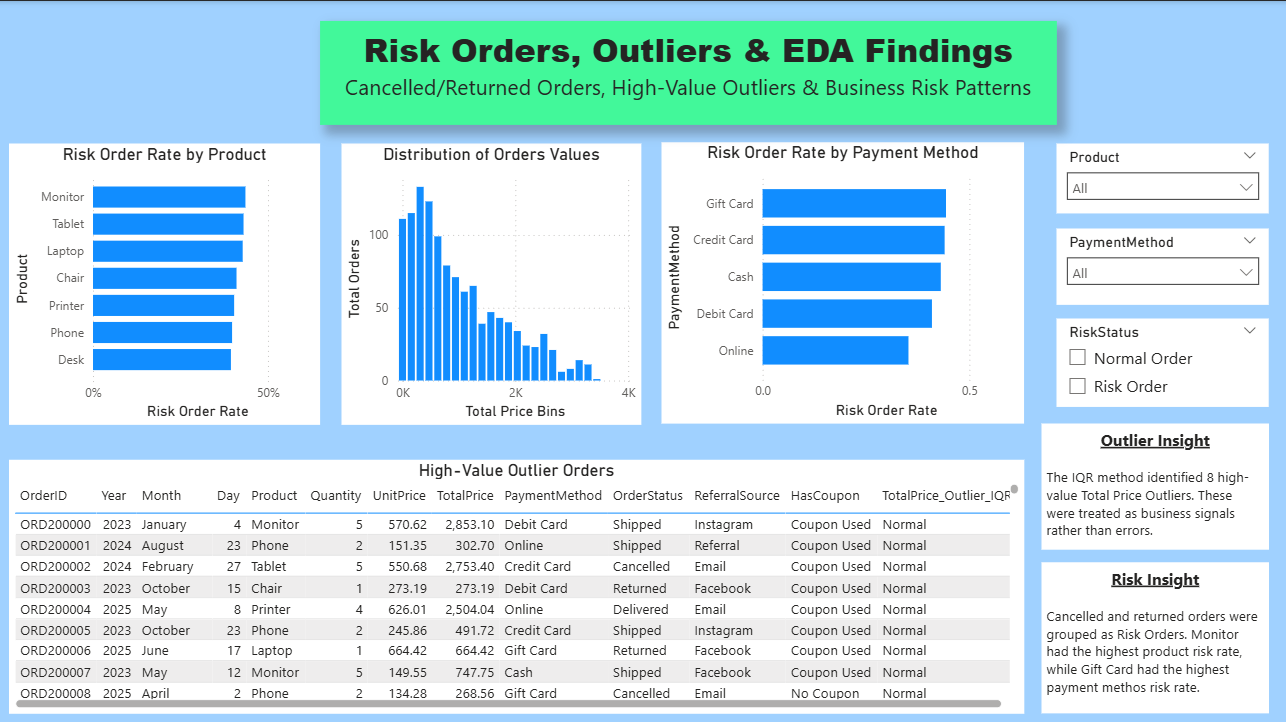

The page's visual inventory and layout, read from the dashboard file:
{"tool":"powerbi","page":{"name":"Risk, Outliers & EDA Findings","canvas":[1280,720],"ordinal":3},"visuals":[{"type":"clusteredBarChart","fields":{"Category":["Orders.Product"],"Y":["Orders.Risk Order Rate"]},"box":[10,141.8,309.7,279.9],"z":0},{"type":"clusteredBarChart","title":"Risk Order Rate by Payment Method","fields":{"Category":["Orders.PaymentMethod"],"Y":["Orders.Risk Order Rate"]},"box":[659.3,140.6,360.7,279.9],"z":1000},{"type":"tableEx","title":"High-Value Outlier Orders","fields":{"Values":["Orders.OrderID","Orders.Date.Variation.Date Hierarchy.Year","Orders.Date.Variation.Date Hierarchy.Month","Orders.Date.Variation.Date Hierarchy.Day","Orders.Product","Orders.Quantity","Orders.UnitPrice","Orders.TotalPrice","Orders.PaymentMethod","Orders.OrderStatus","Orders.ReferralSource","Orders.HasCoupon"]},"box":[10,456.5,1010.1,252.5],"z":2000},{"type":"actionButton","box":[0,0,100,40],"z":3000},{"type":"columnChart","title":"Distribution of Orders Values","fields":{"Category":["Orders.Total Price Bins"],"Y":["Orders.Total Orders"]},"box":[340.8,141.8,298.6,279.9],"z":4000},{"type":"slicer","fields":{"Values":["Orders.Product"]},"box":[1052.4,141.8,211.5,69.7],"z":5000},{"type":"slicer","fields":{"Values":["Orders.PaymentMethod"]},"box":[1052.4,226.4,211.5,75.9],"z":6000},{"type":"slicer","fields":{"Values":["Orders.RiskStatus"]},"box":[1052.4,316,211.5,88.3],"z":7000},{"type":"textbox","box":[1037.5,558.5,226.4,150.5],"z":8000},{"type":"textbox","box":[1037.5,420.5,226.4,125.6],"z":9000},{"type":"textbox","box":[319.7,19.9,732.7,103.2],"z":10000}]}

Visuals, with their boxes in screenshot pixels (x1, y1, x2, y2), scaled from the page's 1280x720 canvas onto the 1286x722 screenshot:
clusteredBarChart - Orders.Product x Orders.Risk Order Rate: (10,142,321,423)
"Risk Order Rate by Payment Method" clusteredBarChart: (662,141,1025,422)
"High-Value Outlier Orders" tableEx: (10,458,1025,711)
actionButton: (0,0,100,40)
"Distribution of Orders Values" columnChart: (342,142,642,423)
slicer - Orders.Product: (1057,142,1270,212)
slicer - Orders.PaymentMethod: (1057,227,1270,303)
slicer - Orders.RiskStatus: (1057,317,1270,405)
textbox: (1042,560,1270,711)
textbox: (1042,422,1270,548)
textbox: (321,20,1057,123)
